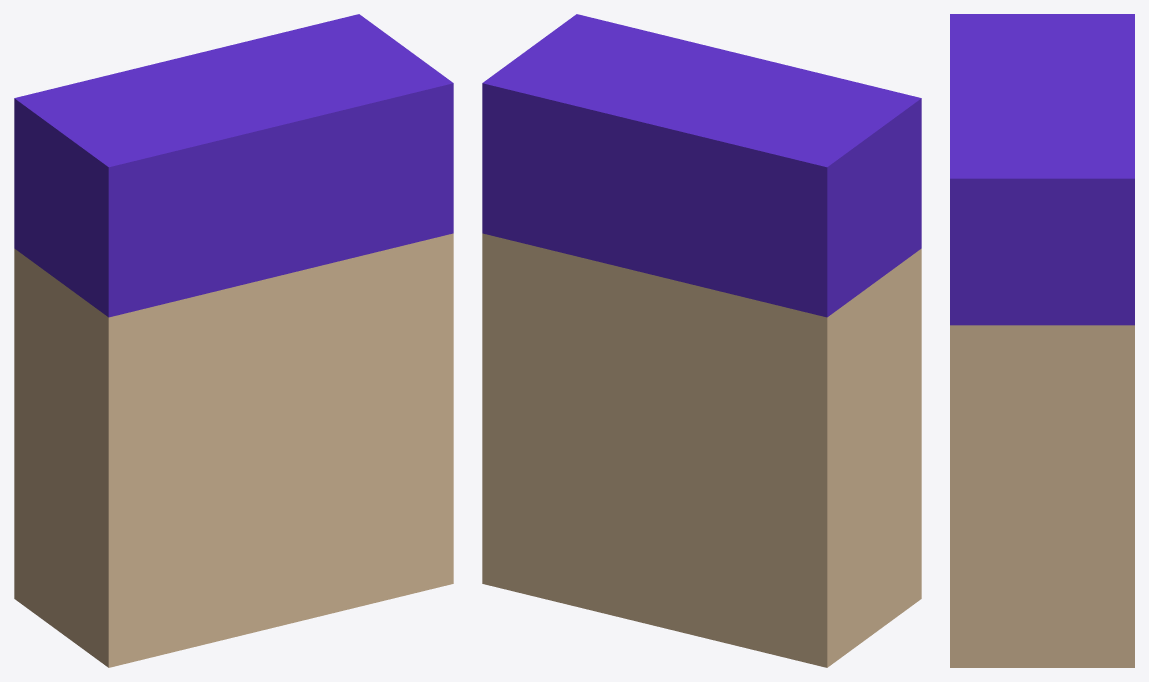
File: Ürün44.fbx
The picture shows the model from 3 angles, left to right: view 1: azimuth 30°, elevation 25°; view 2: azimuth 150°, elevation 25°; view 3: azimuth 270°, elevation 25°; orthographic projection. The views are drawn at different scales.
Visible parts, largest first — view 1: pCube84; view 2: pCube84; view 3: pCube84.
Part boxes in pixels (bbox=[...]): pCube84: bbox=[14, 14, 453, 667]; pCube84: bbox=[482, 14, 921, 667]; pCube84: bbox=[950, 14, 1134, 667].
Bounding box in the file's own units: 23.51 × 32.6 × 11.16.
